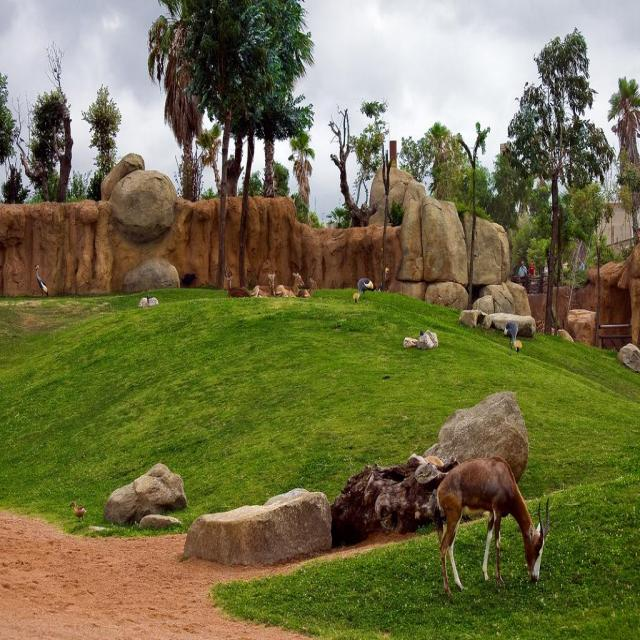Deer: (429, 460, 547, 596)
